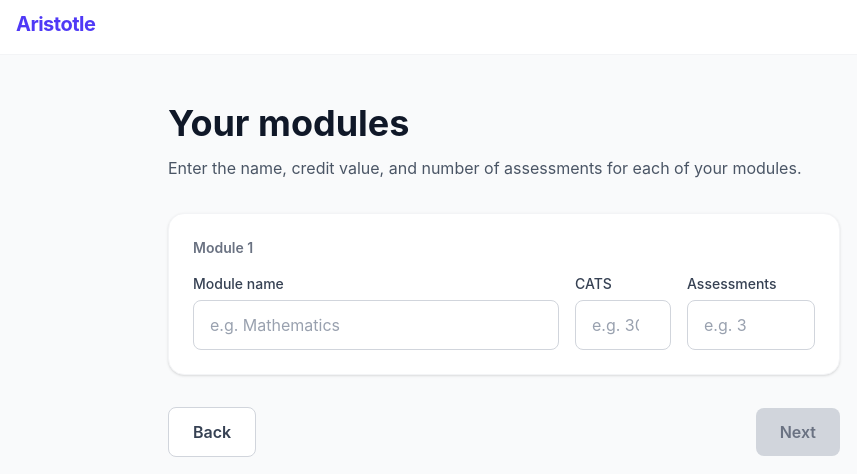
it: ModuleDetailsPage › enables the Next button when all fields are valid
In the field: (376, 325) [193,300,559,350], type "Mathematics"
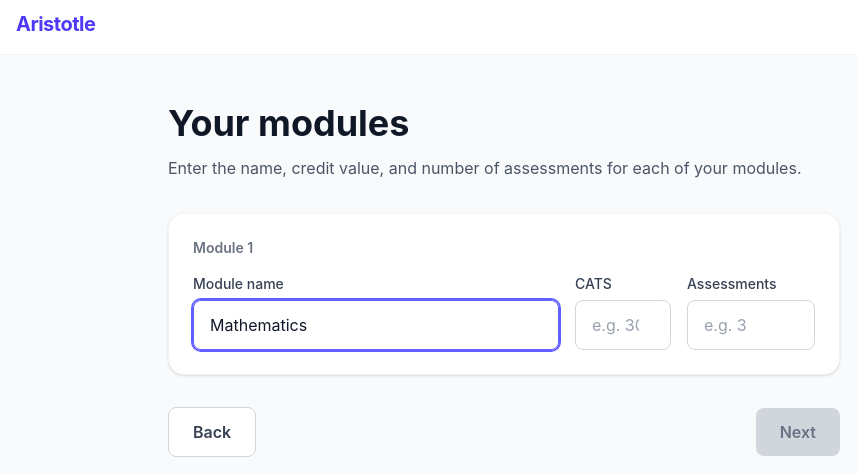
In the number field labelled "CATS": (623, 325) [575,300,671,350], type "30"
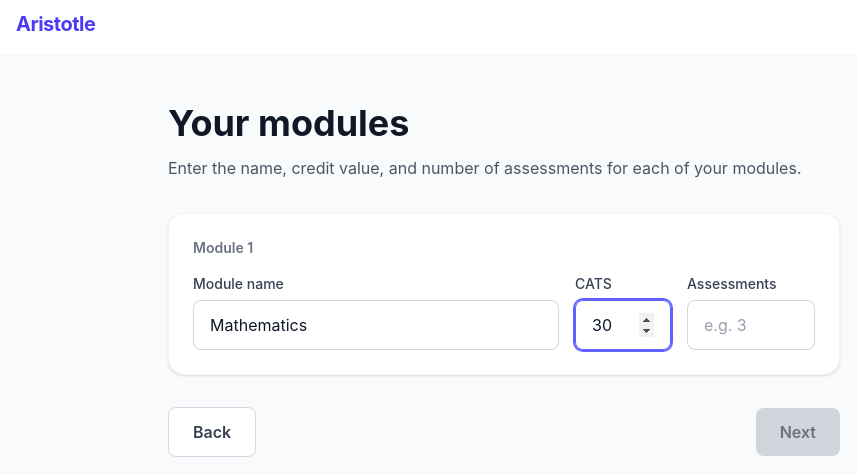
In the number field labelled "Assessments": (751, 325) [687,300,815,350], type "3"
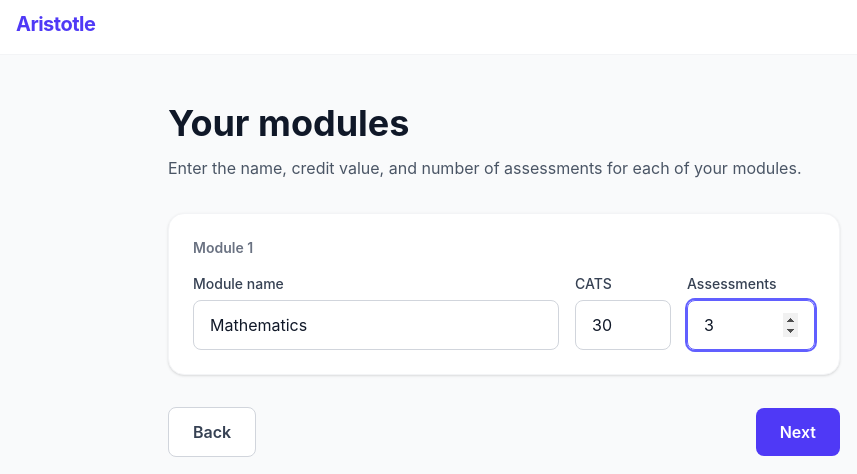
Now the button "Next" is enabled, box [756,408,840,456]
